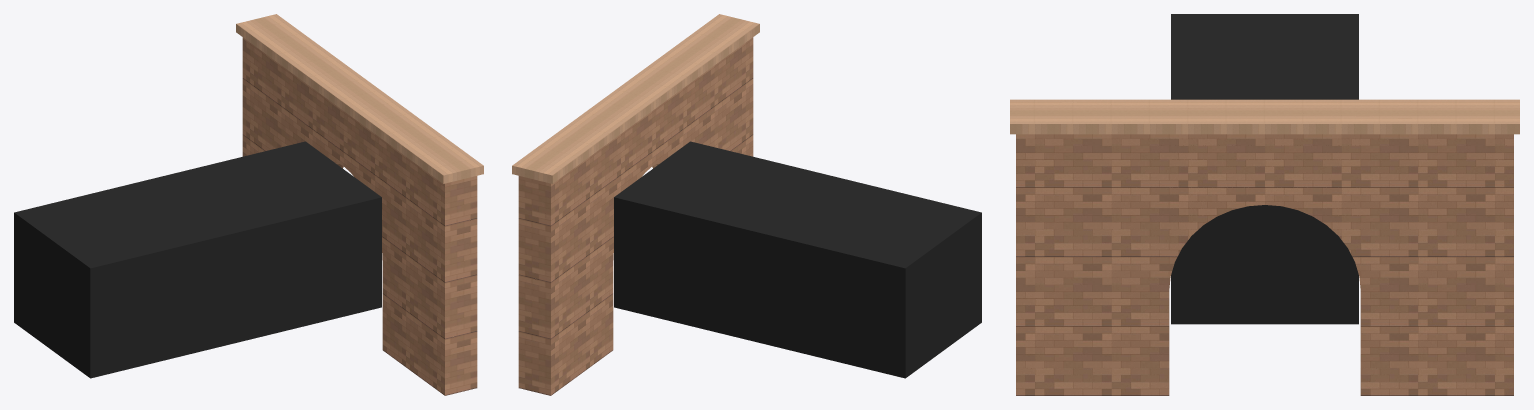
Rendered from tardebigge_tunnel.glb.
3 renders of one model, left to right at view 1: azimuth 30°, elevation 25°; view 2: azimuth 150°, elevation 25°; view 3: azimuth 270°, elevation 25°, orthographic. The views are drawn at different scales.
Visible parts, largest first — view 1: Bore, WallL, Coping; view 2: Bore, WallL, Coping; view 3: WallL, Bore, Coping.
Boxes of the visible parts, x1,y1,x2,y2 form: Bore: [14, 141, 381, 378]; WallL: [242, 37, 477, 395]; Coping: [236, 14, 483, 183]; Bore: [614, 141, 981, 378]; WallL: [518, 37, 753, 395]; Coping: [512, 14, 759, 183]; WallL: [1016, 134, 1513, 395]; Bore: [1171, 14, 1358, 324]; Coping: [1010, 99, 1519, 134].
Bounding box in the file's own units: 12.15 × 7.9 × 13.3.
3 materials, 2 textured.
